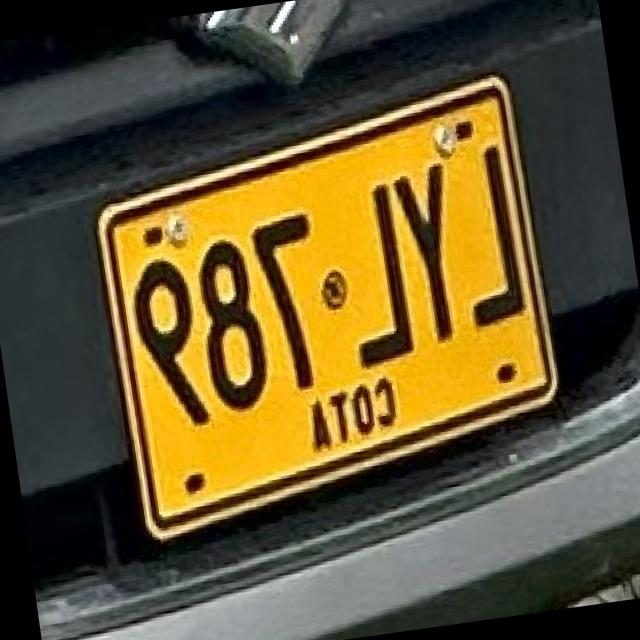number plate: (101, 71, 559, 531)
